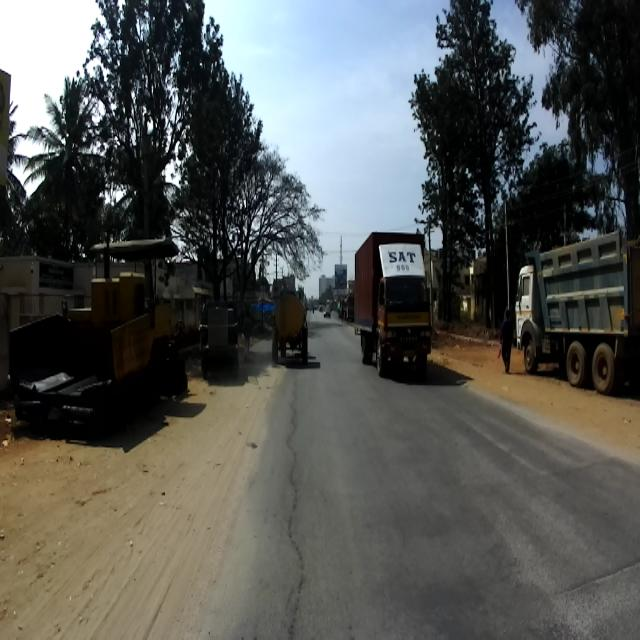truck ahead at: (5, 232, 192, 447), (352, 227, 436, 379), (266, 284, 312, 371)
